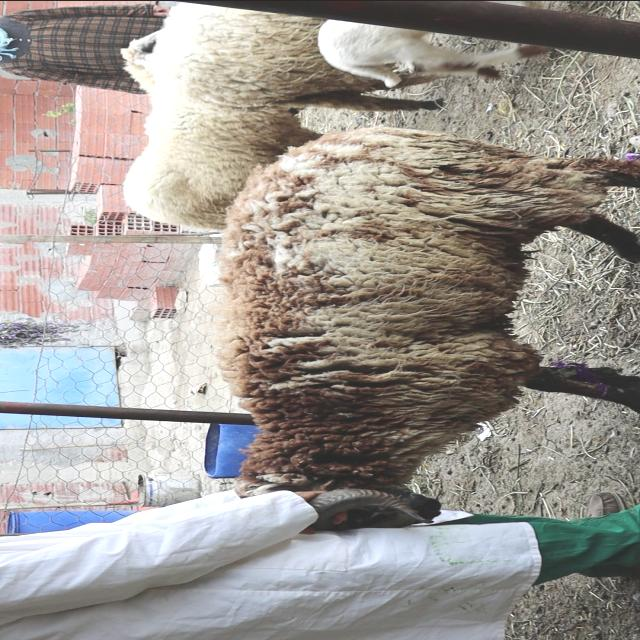Score_4: (218, 127, 639, 532)
